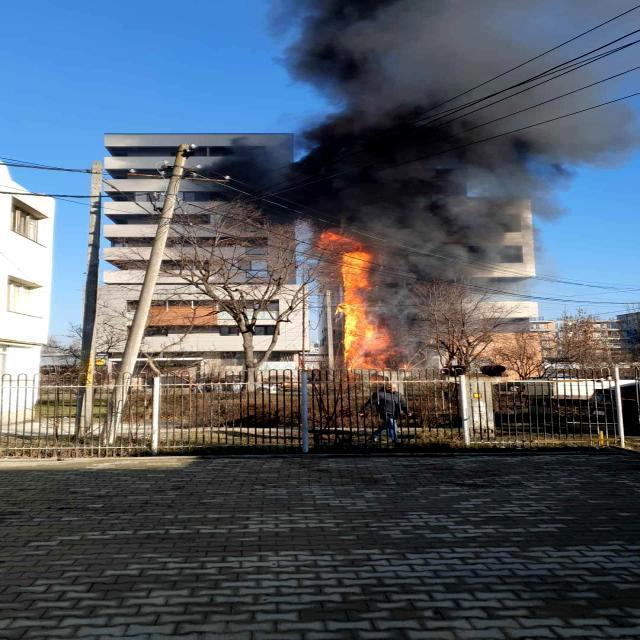Fire: (334, 245, 392, 379)
Smoke: (230, 1, 638, 260)
